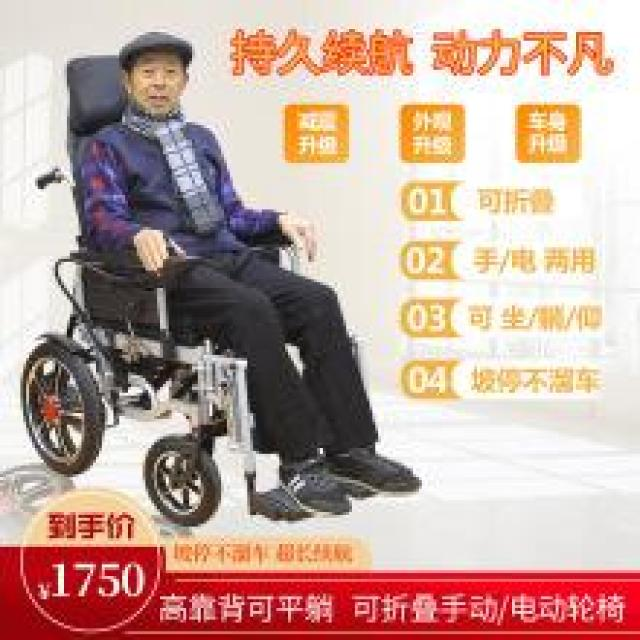wheelchairs: (12, 232, 360, 533)
